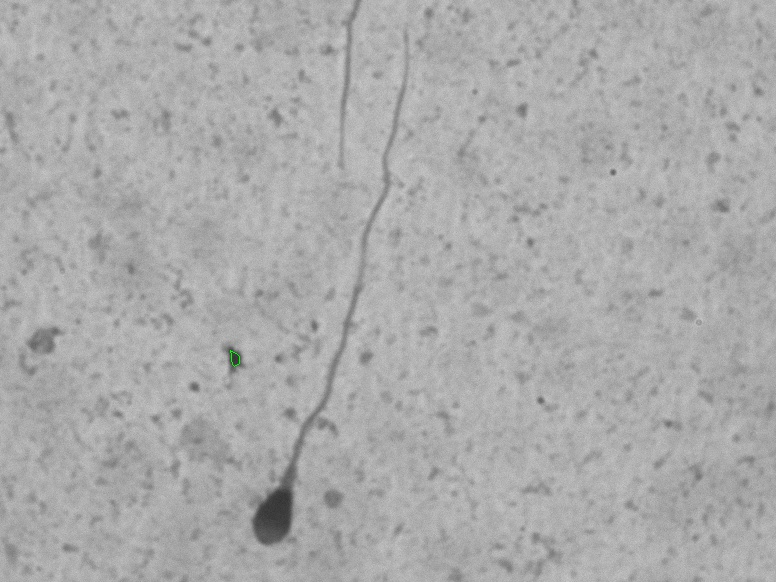Normal: (242, 30, 442, 560)
